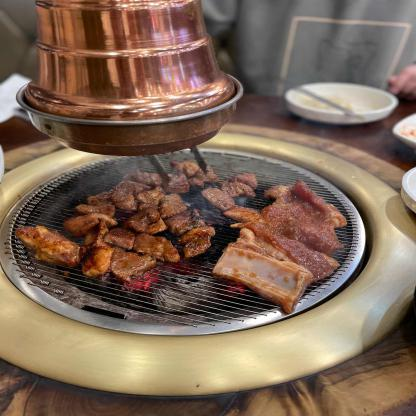Carne: (14, 222, 74, 265), (109, 229, 179, 263), (87, 244, 153, 280), (122, 207, 170, 234), (62, 212, 118, 234), (184, 224, 216, 262), (196, 186, 237, 210), (76, 200, 118, 220), (111, 179, 137, 207), (121, 170, 162, 187), (139, 182, 164, 209), (162, 193, 188, 216), (164, 174, 190, 192)
